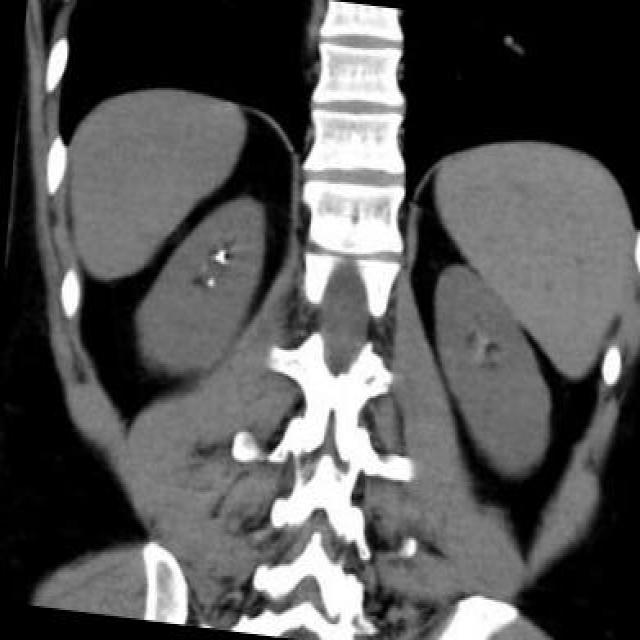Tas_Var: (210, 247, 227, 265), (205, 276, 216, 288)
